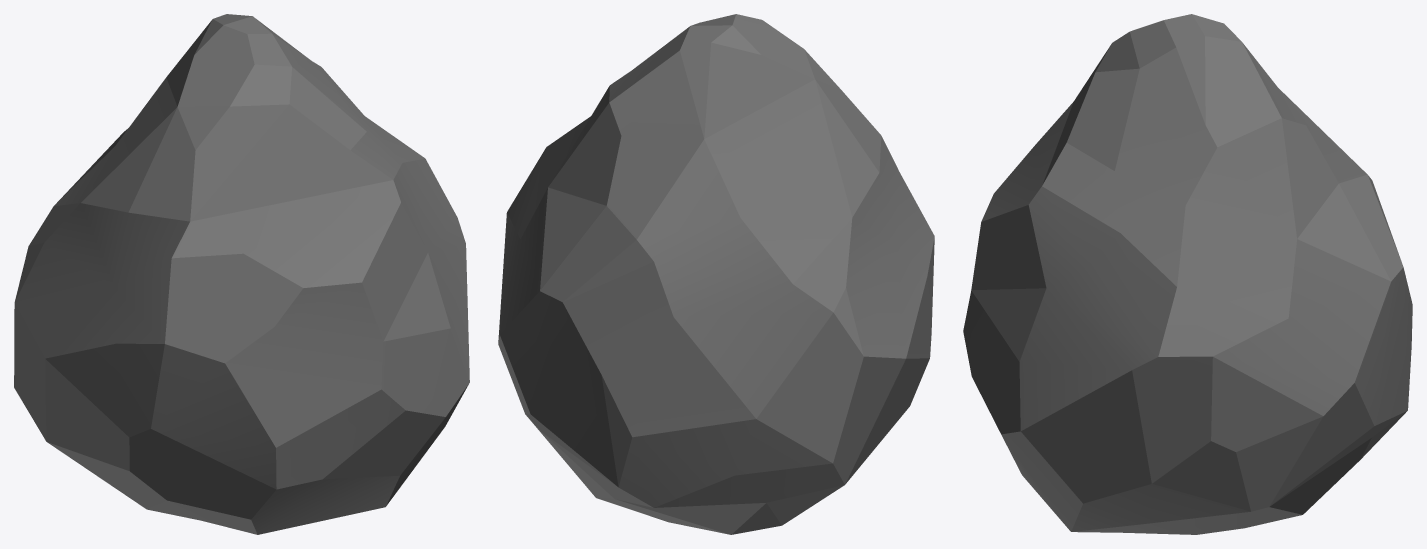
Rendered from Rock_4.FBX.
The picture shows the model from 3 angles, left to right: view 1: azimuth 30°, elevation 25°; view 2: azimuth 150°, elevation 25°; view 3: azimuth 270°, elevation 25°; orthographic projection.
Parts seen in each view (by area): view 1: Rock_4; view 2: Rock_4; view 3: Rock_4.
Boxes of the visible parts, x1,y1,x2,y2 form: Rock_4: (14,14,469,534); Rock_4: (498,14,934,534); Rock_4: (963,14,1412,534).
Bounding box in the file's own units: 278 × 330 × 271.
